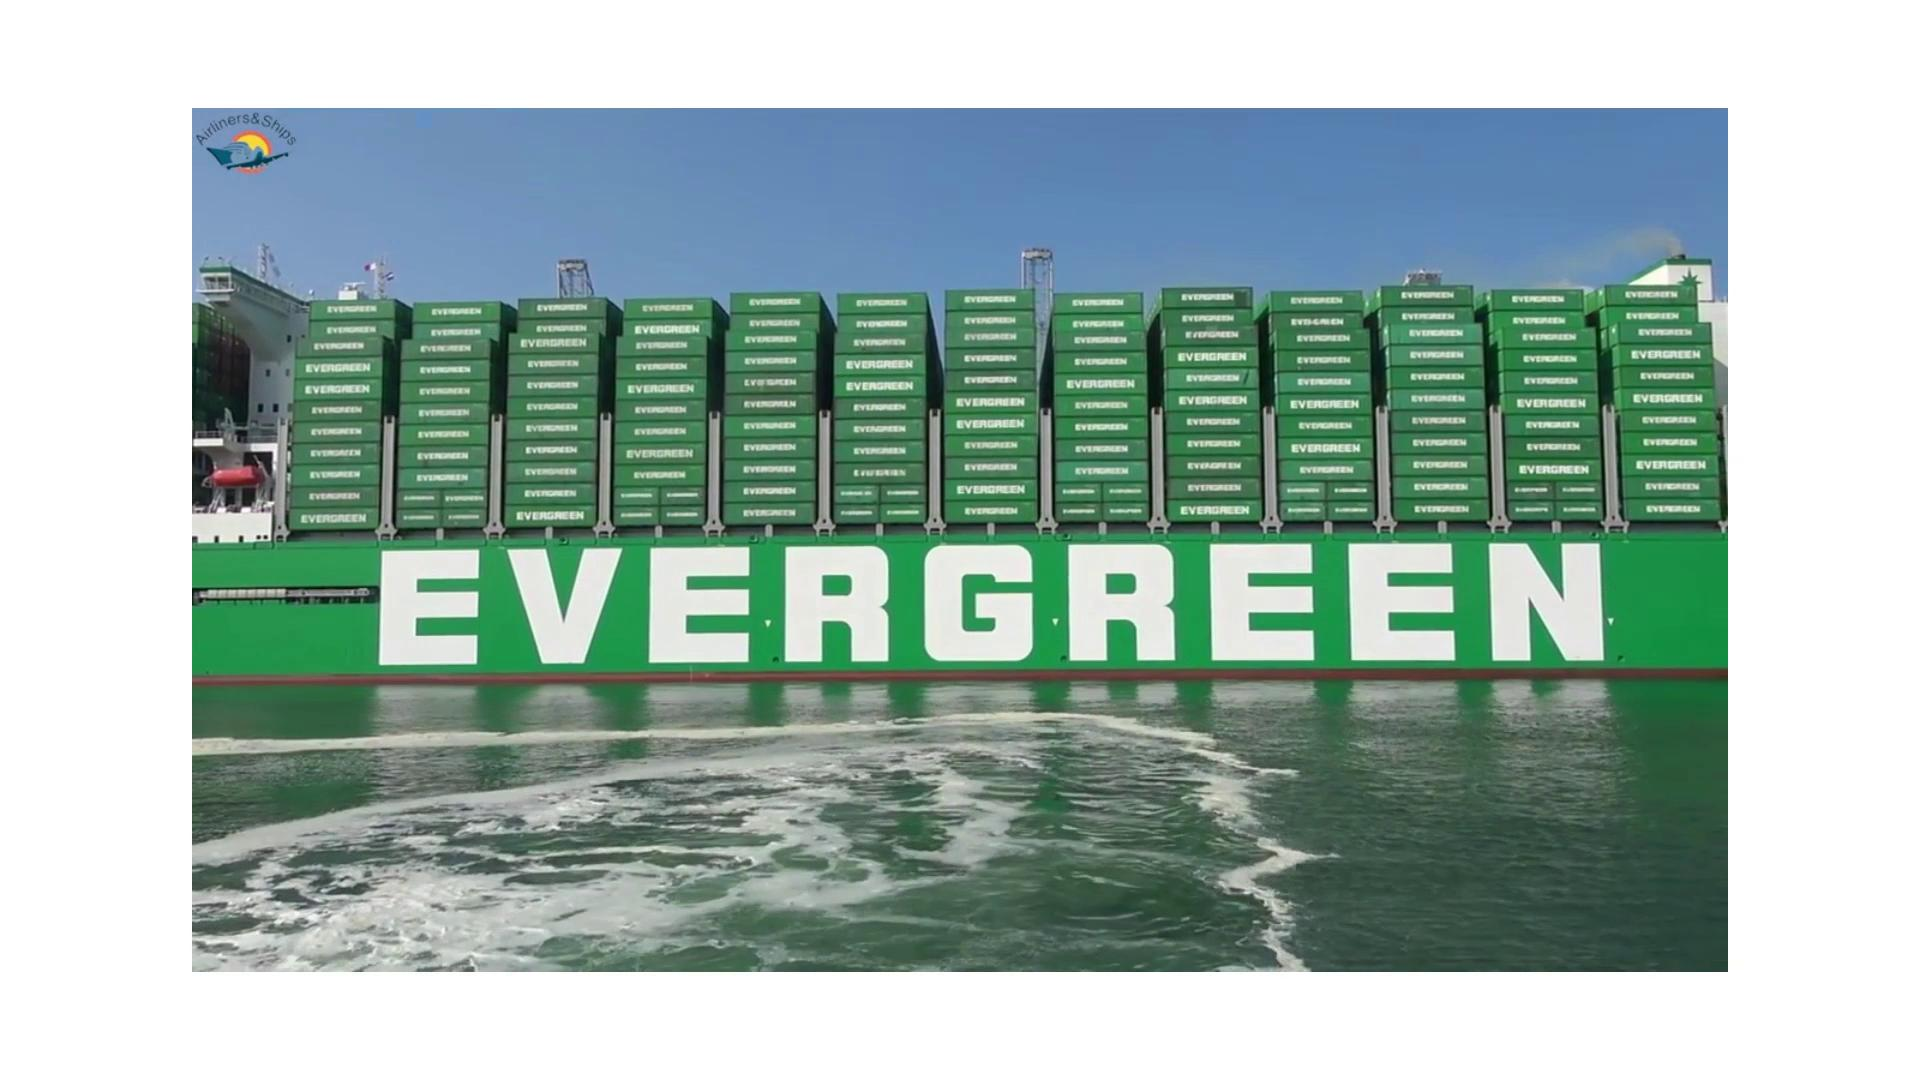OCR: (360, 527, 1627, 698)
